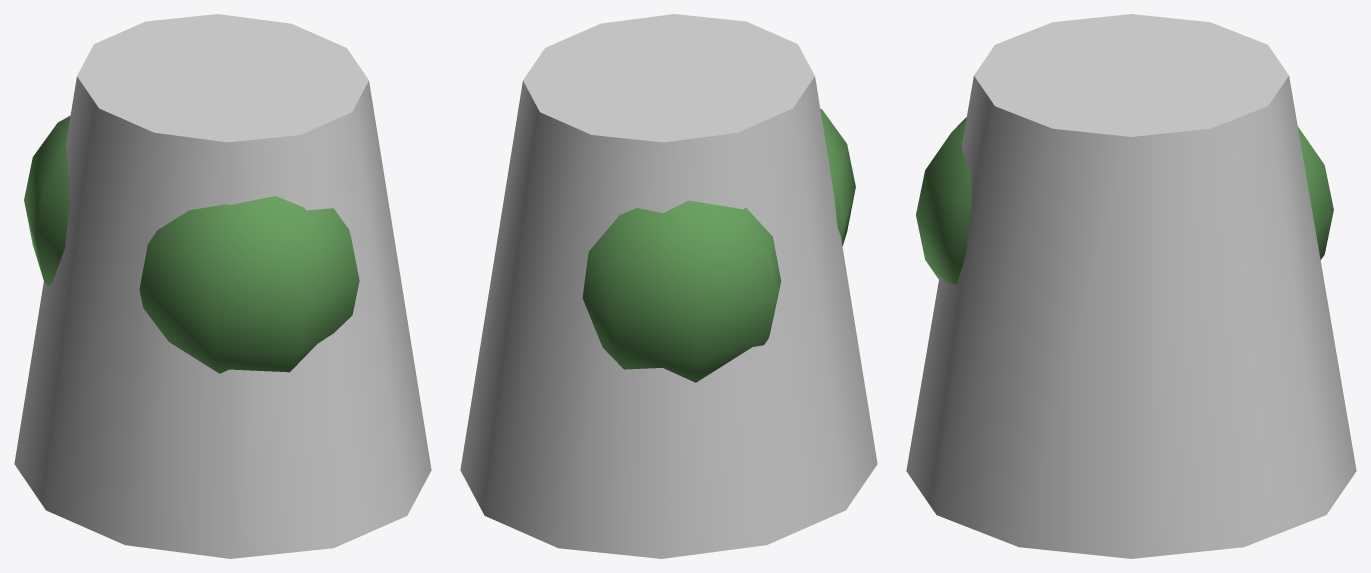
File: skirt-decor-side.glb
3 renders of one model, left to right at view 1: azimuth 30°, elevation 25°; view 2: azimuth 150°, elevation 25°; view 3: azimuth 270°, elevation 25°, orthographic.
Parts seen in each view (by area): view 1: Cylinder, Sphere_1, Sphere_4; view 2: Cylinder, Sphere_4, Sphere_1; view 3: Cylinder, Sphere_1, Sphere_4.
Part boxes in pixels (left/top/right/bottom): Cylinder: left=14, top=14, right=431, bottom=558; Sphere_1: left=139, top=196, right=359, bottom=373; Sphere_4: left=24, top=115, right=70, bottom=286; Cylinder: left=460, top=14, right=877, bottom=558; Sphere_4: left=582, top=200, right=781, bottom=382; Sphere_1: left=820, top=108, right=855, bottom=245; Cylinder: left=906, top=14, right=1356, bottom=558; Sphere_1: left=916, top=117, right=971, bottom=284; Sphere_4: left=1298, top=127, right=1333, bottom=259.
Bounding box in the file's own units: 0.8871 × 0.9316 × 0.9609.
